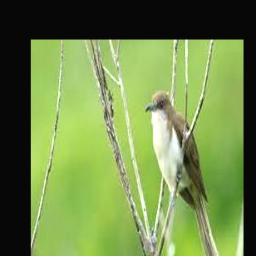Cuckoo: (145, 92, 221, 256)
